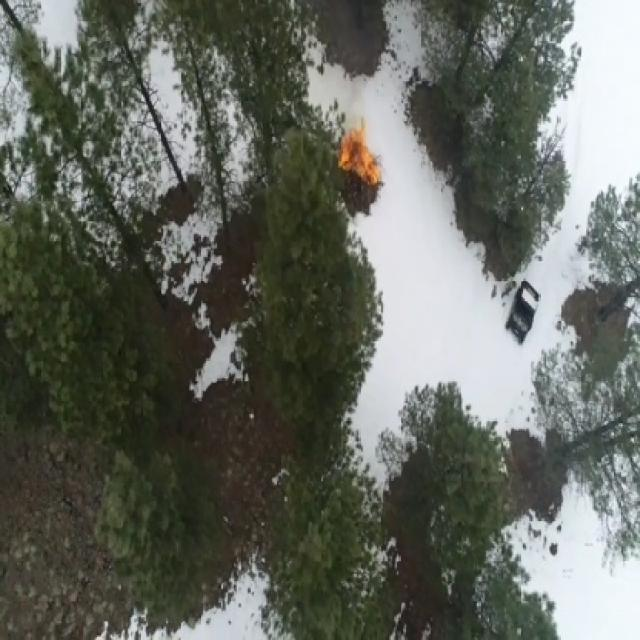Fire: (337, 115, 381, 188)
